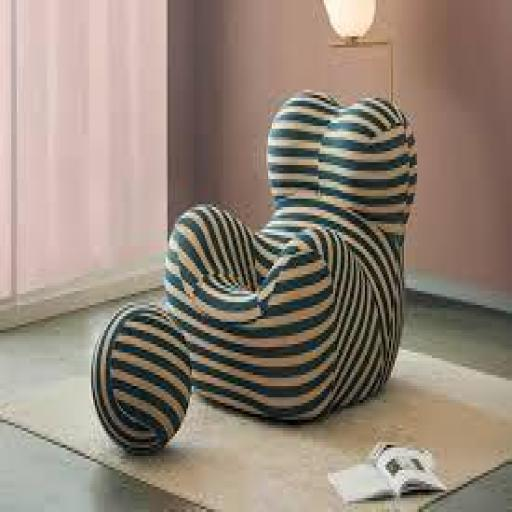chair: (161, 78, 420, 431)
